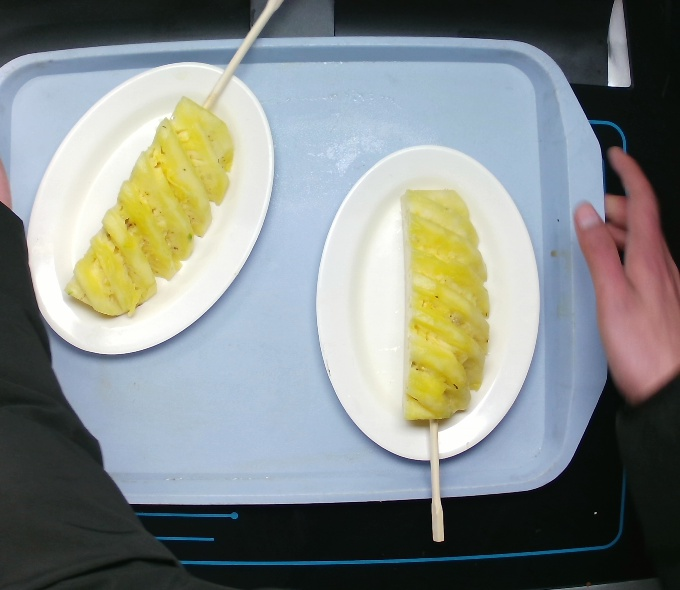wcq-BoLuo: (65, 89, 246, 327), (377, 165, 522, 441)
